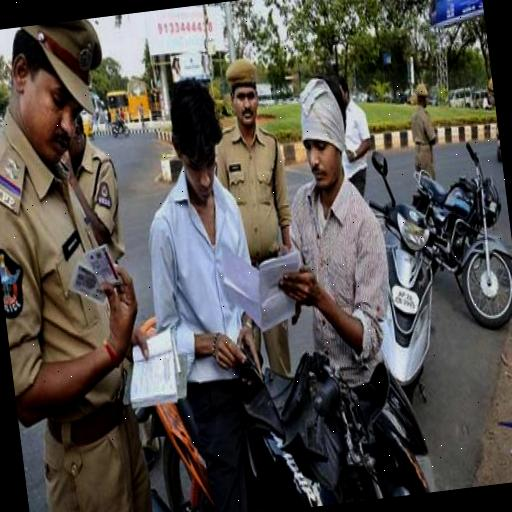no helmet: (132, 52, 300, 502)
